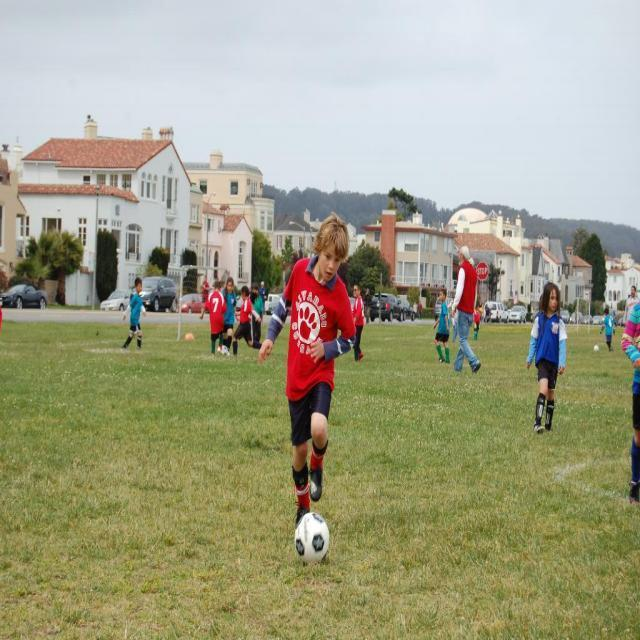football: (283, 510, 345, 571)
